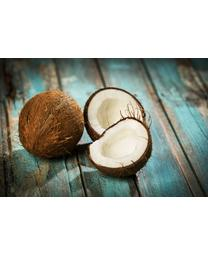coconut: (17, 88, 85, 161), (87, 116, 153, 177), (82, 85, 146, 139)
